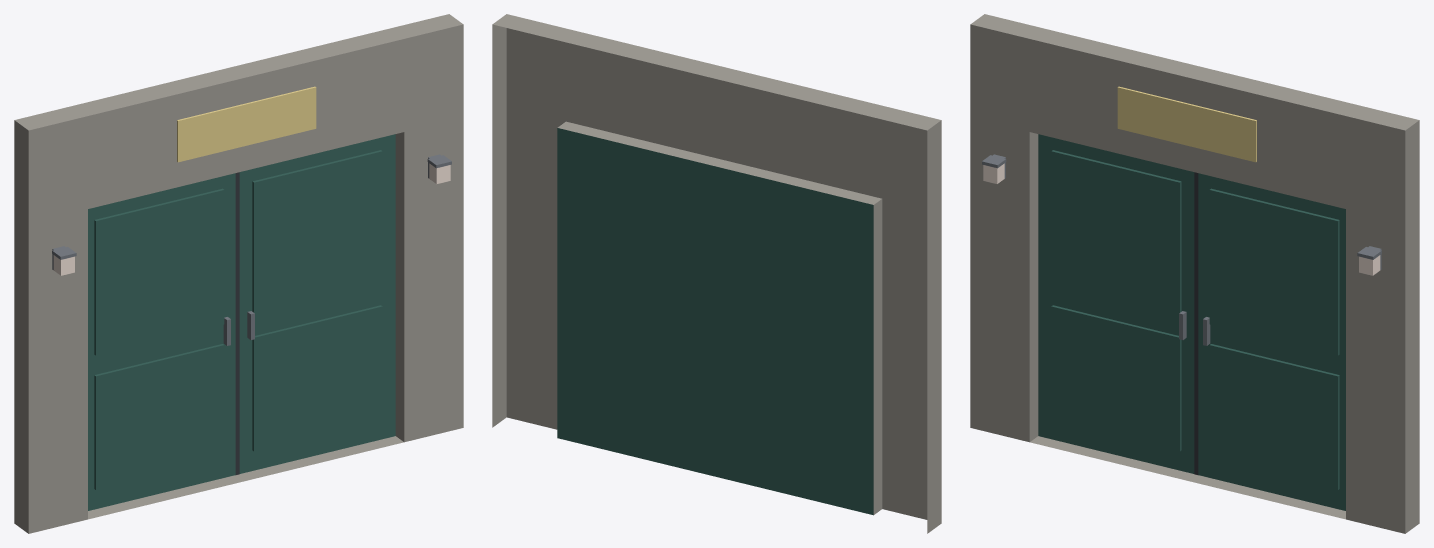
Rendered from entrance_close.fbx.
3 views of the same model, side by side, from view 1: azimuth 30°, elevation 25°; view 2: azimuth 150°, elevation 25°; view 3: azimuth 330°, elevation 25° (orthographic).
Visible parts, largest first — view 1: a2013/700/entrance_close; view 2: a2013/700/entrance_close; view 3: a2013/700/entrance_close.
Boxes of the visible parts, x1,y1,x2,y2 form: a2013/700/entrance_close: (14,14,463,533); a2013/700/entrance_close: (492,14,941,533); a2013/700/entrance_close: (970,14,1419,533).
Size of the model in its own units: 4.4 by 3.9 by 0.43.
